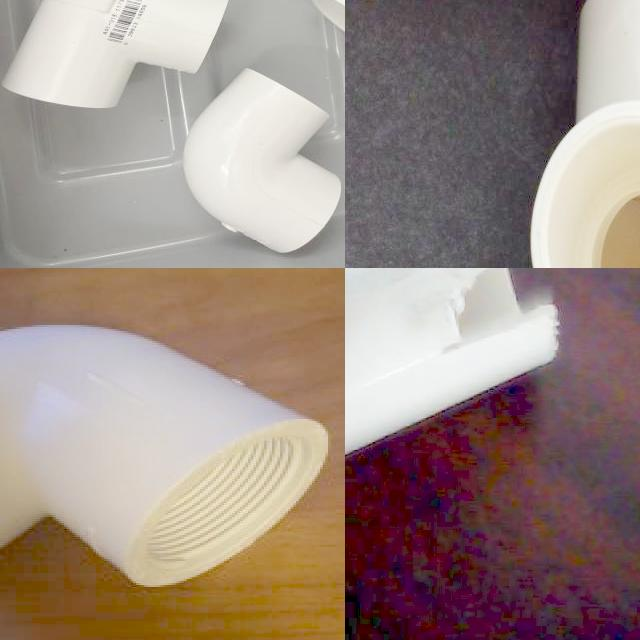Defective: (419, 304, 561, 416), (457, 268, 525, 346), (443, 298, 465, 352)
L Joint: (0, 324, 331, 590), (181, 71, 344, 254)
T Joint: (345, 268, 560, 460), (3, 0, 231, 111)
